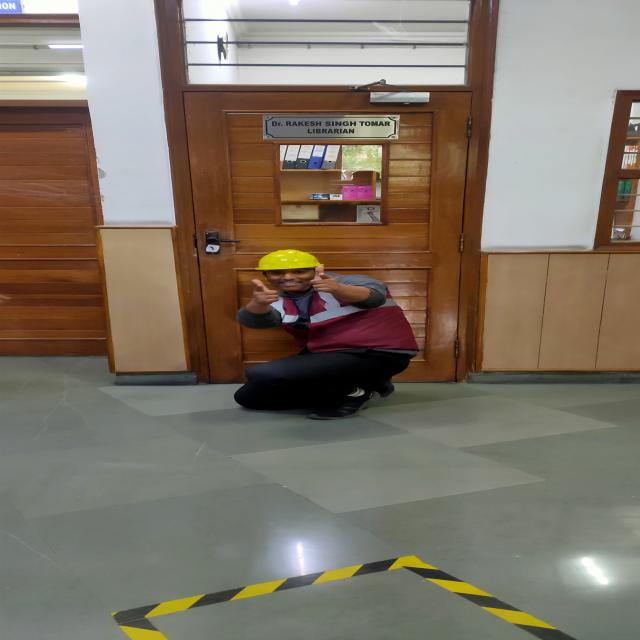safe: (233, 249, 420, 420)
